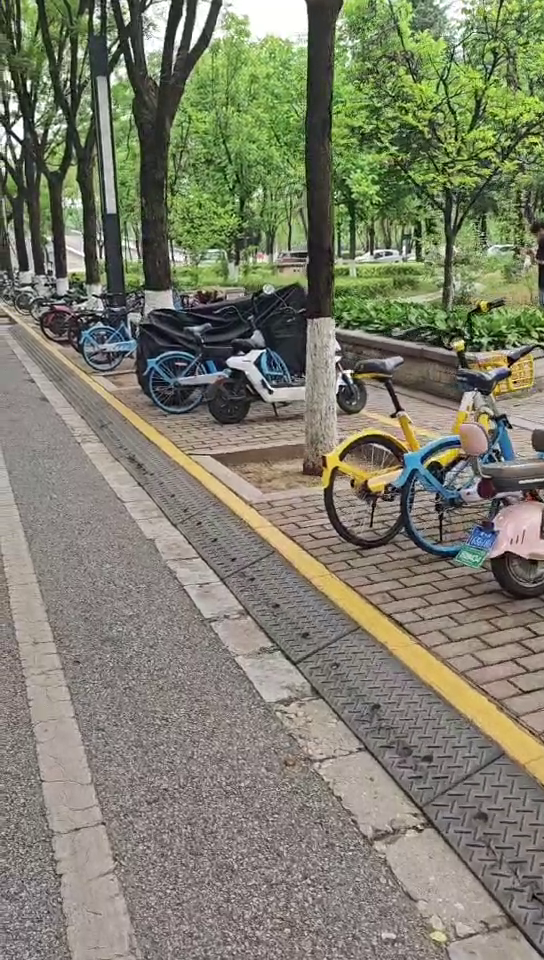others: (219, 307, 363, 433), (469, 421, 544, 596)
shared_bike_haluo: (414, 368, 544, 558), (143, 301, 292, 407), (83, 298, 157, 372)
shared_bike_meituan: (310, 319, 512, 538)
